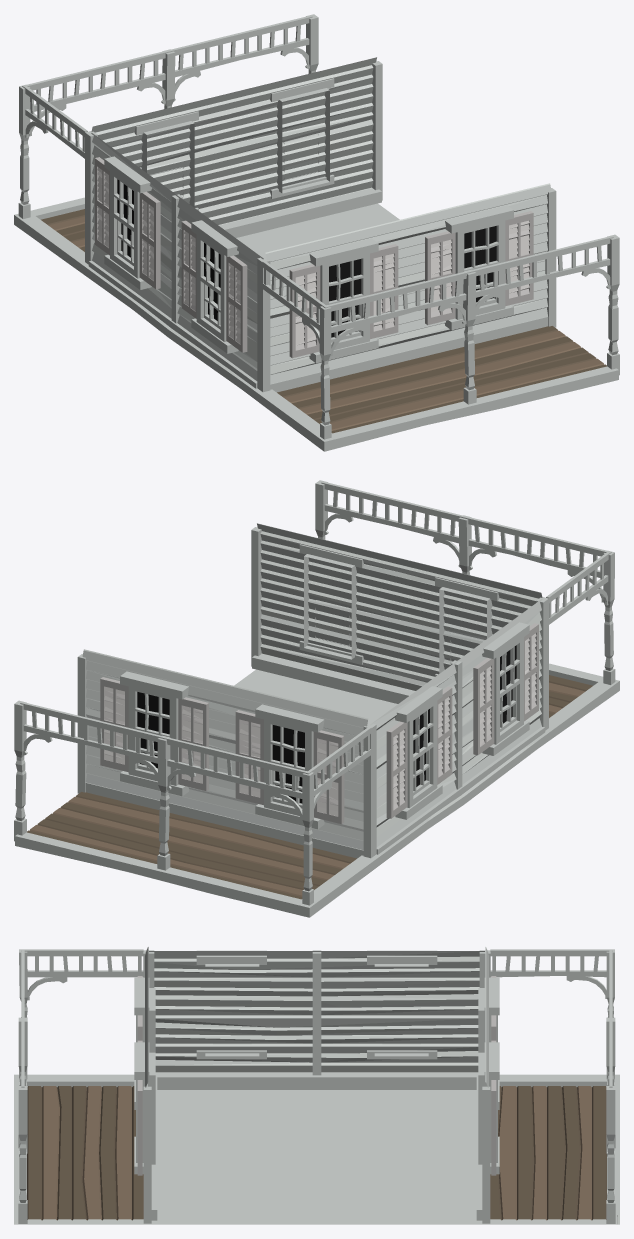
Rendered from SM_Bld_Mansion_End_01.glb.
3 views of the same model, one above another, from view 1: azimuth 30°, elevation 25°; view 2: azimuth 150°, elevation 25°; view 3: azimuth 270°, elevation 25° (orthographic). The views are drawn at different scales.
Visible parts, largest first — view 1: SM_Bld_Mansion_End_01_part00; view 2: SM_Bld_Mansion_End_01_part00; view 3: SM_Bld_Mansion_End_01_part00.
Part boxes in pixels (x1,y1,x2,y2): SM_Bld_Mansion_End_01_part00: (14, 14, 619, 451); SM_Bld_Mansion_End_01_part00: (14, 480, 619, 917); SM_Bld_Mansion_End_01_part00: (14, 947, 619, 1224).
Bounding box in the file's own units: 6.27 × 2.9 × 11.18.
Materials: 1 (1 with a texture image).
